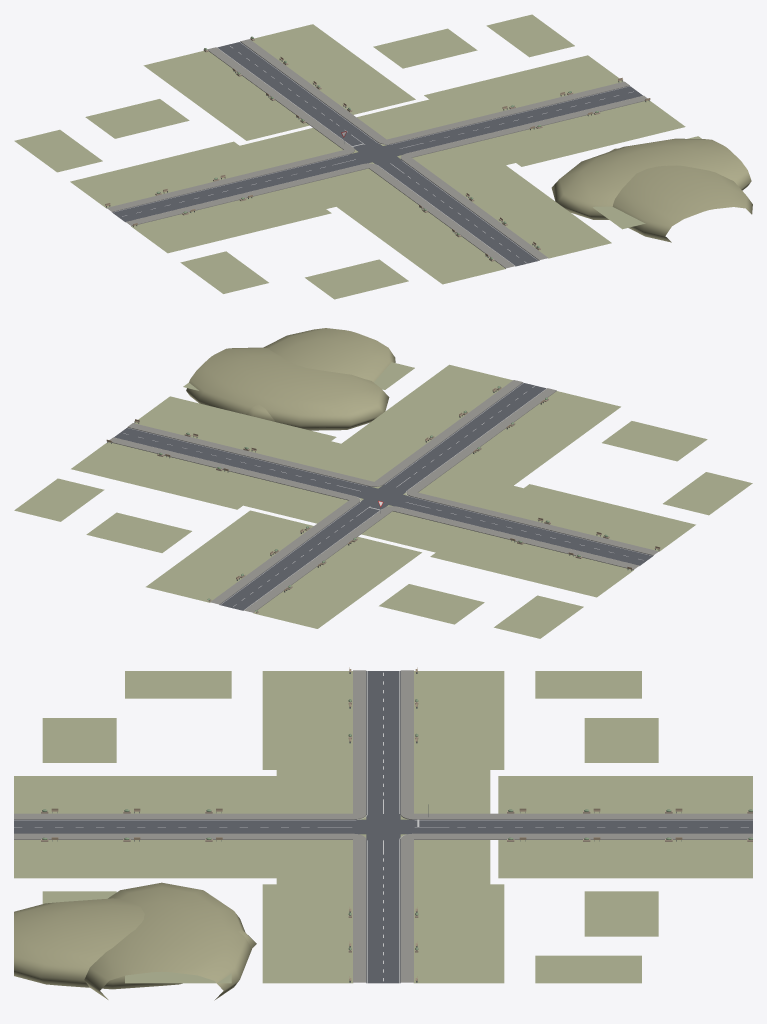
3 views of the same model, one above another, from view 1: azimuth 30°, elevation 25°; view 2: azimuth 150°, elevation 25°; view 3: azimuth 270°, elevation 25° (orthographic). The views are drawn at different scales.
Visible parts, largest first — view 1: static; view 2: static; view 3: static.
Part boxes in pixels (left/top/right/bottom): static: left=14, top=14, right=752, bottom=299; static: left=14, top=328, right=752, bottom=638; static: left=14, top=667, right=752, bottom=1000.
Size of what is drawn, in the model's own units: 180 by 14.08 by 180.
3 materials, 2 textured.
